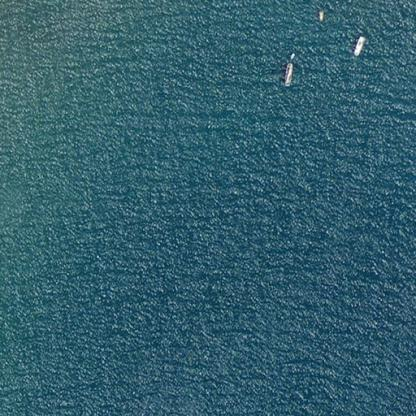ship: (352, 34, 365, 55), (283, 63, 291, 84), (290, 9, 293, 18), (317, 12, 322, 16)
